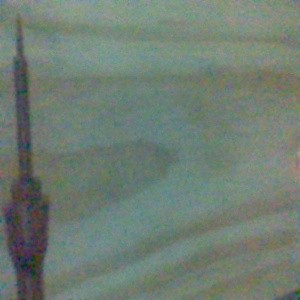solder: (1, 12, 49, 300)
